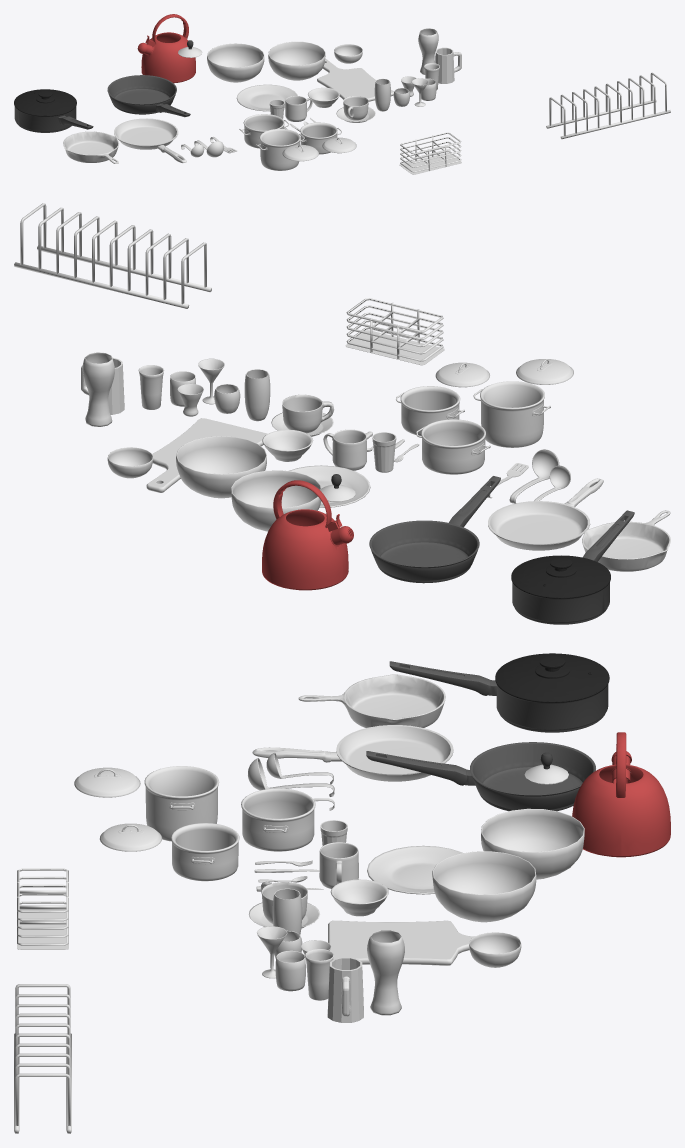
File: kitchenstuff.fbx
The picture shows the model from 3 angles, top to bottom: view 1: azimuth 30°, elevation 25°; view 2: azimuth 150°, elevation 25°; view 3: azimuth 270°, elevation 25°; orthographic projection. The views are drawn at different scales.
Parts seen in each view (by area): view 1: PlateHolder, Kettle, Pan2, Bowl_Glass1, Bowl_Type2, Pan3, CutleryHolder, Pan_Old, choppingBoard, Pan1_Top, Pot3, Pan1 (+18 smaller); view 2: Kettle, Pan2, PlateHolder, Pan3, Bowl_Glass1, CutleryHolder, Pot3, Bowl_Type2, Pan1_Top, Pan1, Pot, Pan_Old (+16 smaller); view 3: Kettle, Pan2, Bowl_Glass1, Pan3, Bowl_Type2, Pan_Old, Pan1, Pan1_Top, choppingBoard, Pot3, Pot, PlateHolder (+17 smaller).
Boxes of the visible parts, x1,y1,x2,y2 form: PlateHolder: (546,72,670,139); Kettle: (137,14,195,83); Pan2: (107,75,190,117); Bowl_Glass1: (268,41,325,80); Bowl_Type2: (207,43,264,82); Pan3: (114,118,186,163); CutleryHolder: (399,132,461,174); Pan_Old: (63,131,119,163); choppingBoard: (317,58,393,101); Pan1_Top: (14,89,76,116); Pot3: (256,129,304,170); Pan1: (14,106,93,132); Kettle: (262,480,353,590); Pan2: (369,476,500,583); PlateHolder: (14,203,211,308); Pan3: (488,478,603,550); Bowl_Glass1: (176,436,266,498); CutleryHolder: (345,298,444,365); Pot3: (473,381,550,447); Bowl_Type2: (231,470,321,531); Pan1_Top: (511,555,610,598); Pan1: (512,510,634,624); Pot: (416,419,490,474); Pan_Old: (582,510,670,571); Kettle: (572,732,670,857); Pan2: (366,742,595,811); Bowl_Glass1: (432,851,536,922); Pan3: (252,725,453,781); Bowl_Type2: (481,808,584,879); Pan_Old: (298,674,445,727); Pan1: (389,661,608,732); Pan1_Top: (495,653,609,702); choppingBoard: (328,920,518,965); Pot3: (144,766,219,841); Pot: (241,788,315,851); PlateHolder: (14,984,71,1133).
Size of the model in its own units: 2.84 by 0.3192 by 1.76.
